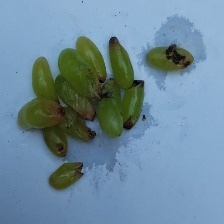grapes: (41, 7, 186, 200)
